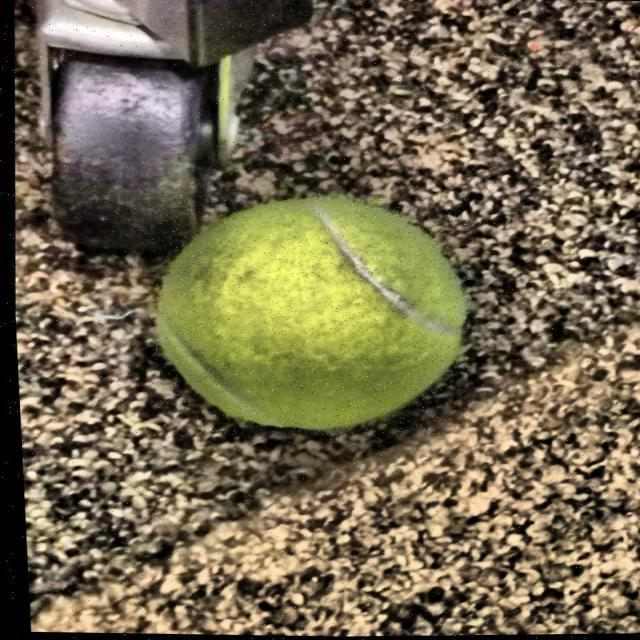tennis-ball: (138, 191, 480, 445)
